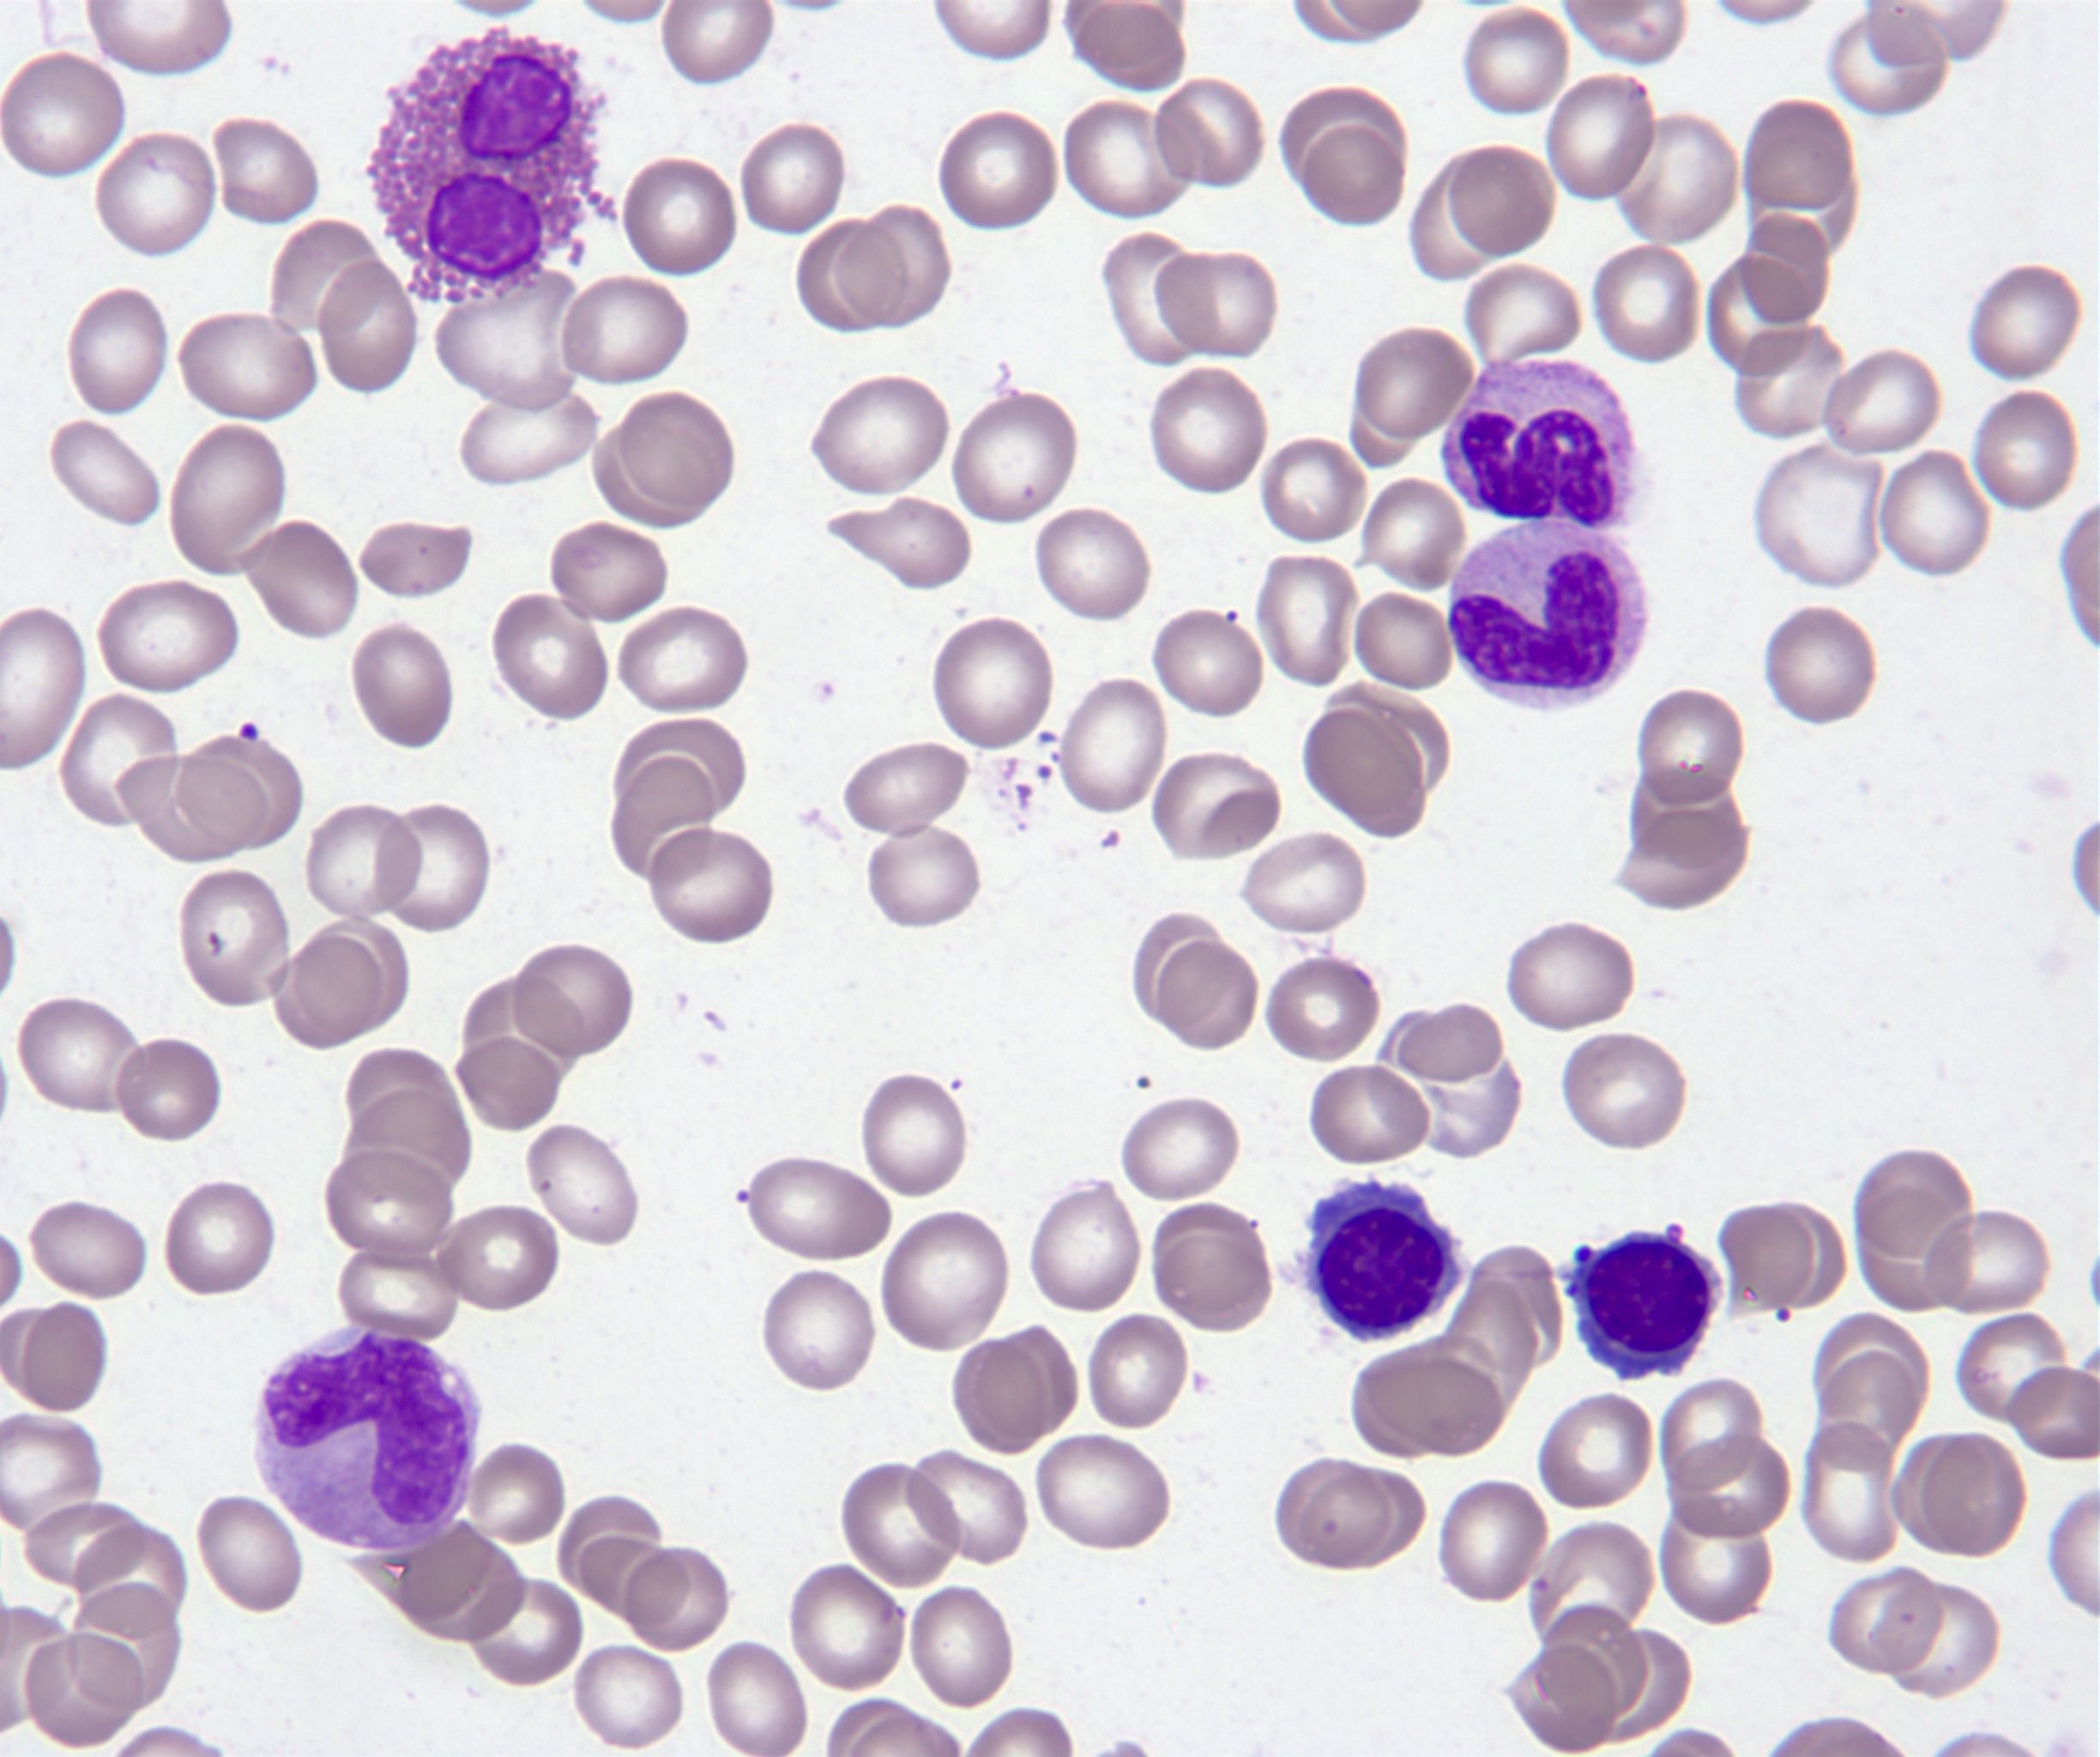23: (1299, 1181, 1463, 1343), (1565, 1225, 1725, 1382)
4: (253, 1328, 480, 1548), (1448, 518, 1647, 712)
5: (1442, 359, 1638, 529)
x: (366, 30, 621, 302)
